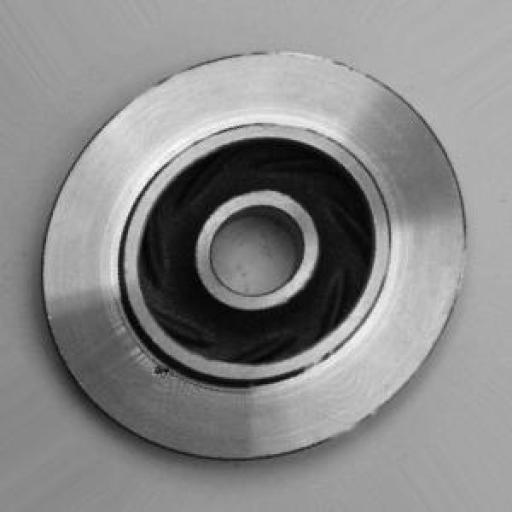defect: (126, 338, 189, 393)
